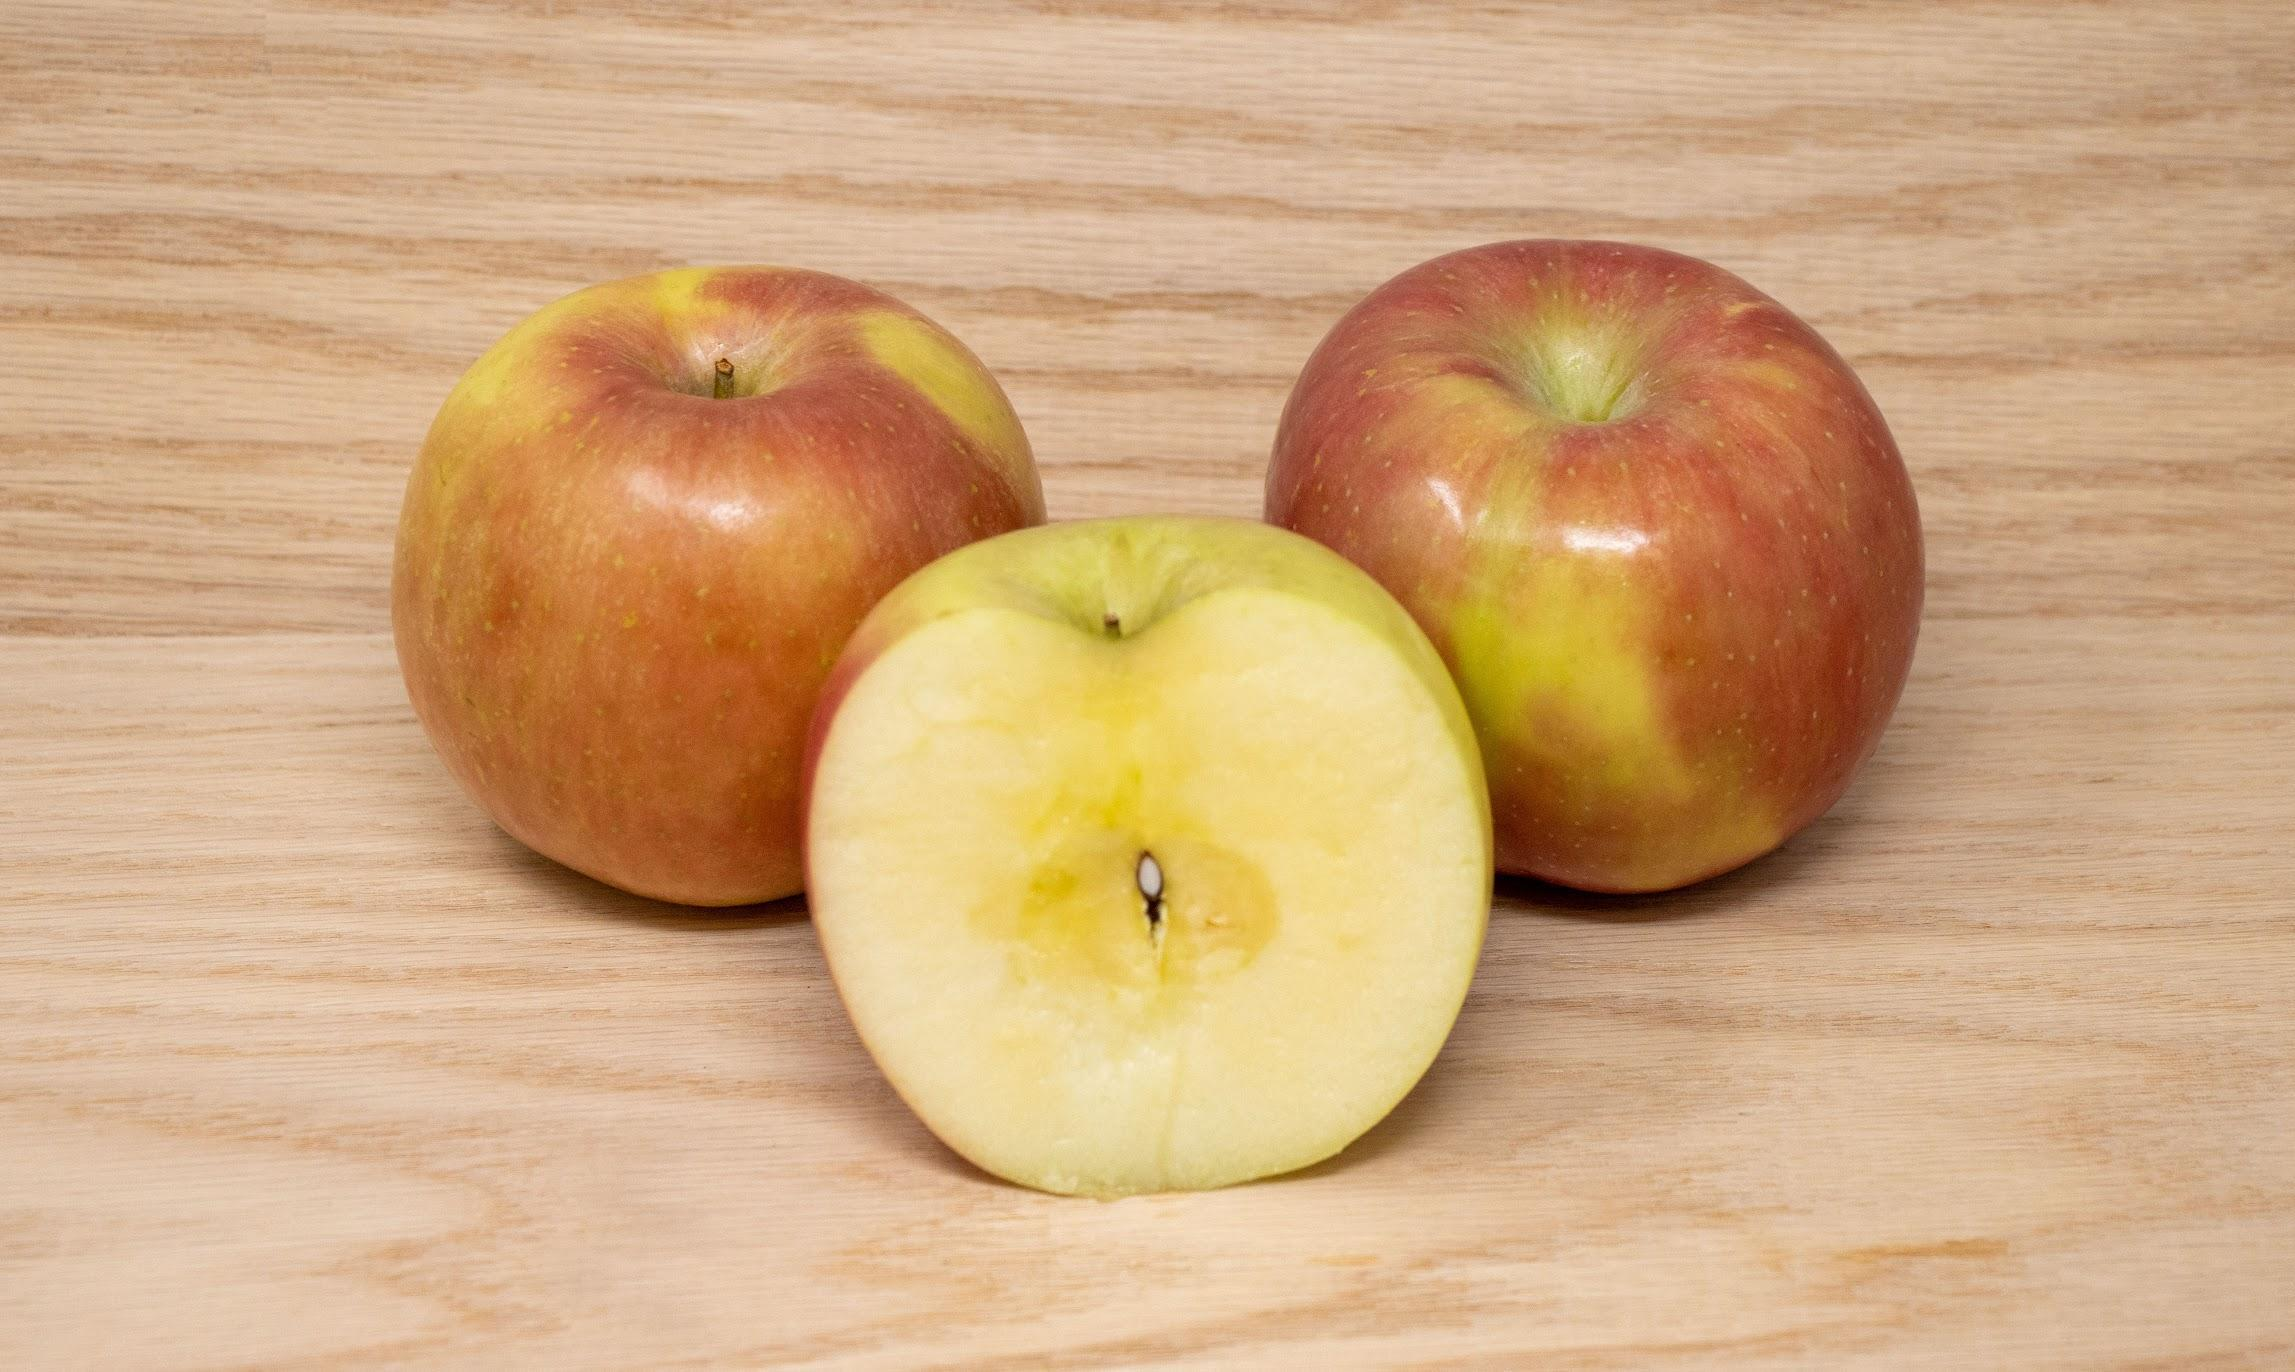apple: (1254, 240, 1932, 900), (392, 265, 1062, 911)
